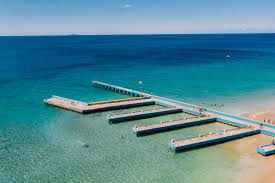boat: (224, 51, 232, 60)
